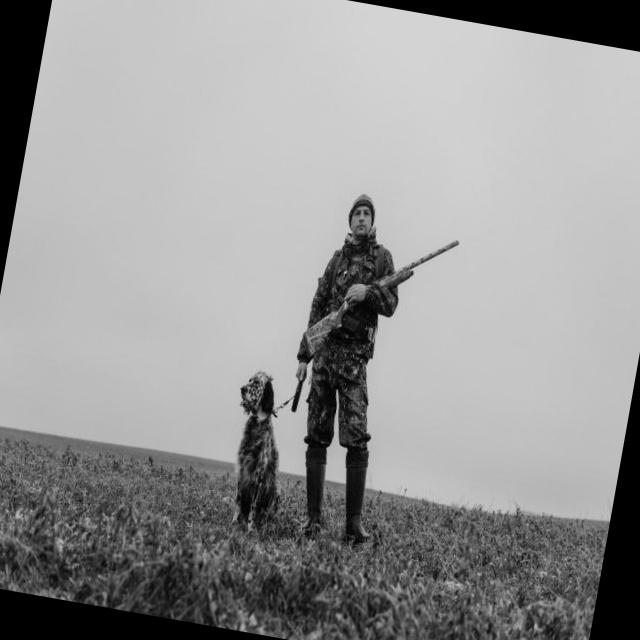Gun: (374, 241, 458, 288), (304, 301, 349, 356)
